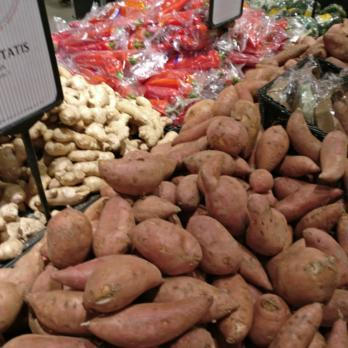Sweet potato: (182, 136, 348, 343), (44, 195, 181, 348), (93, 138, 182, 198), (198, 82, 257, 143), (3, 261, 43, 347)
